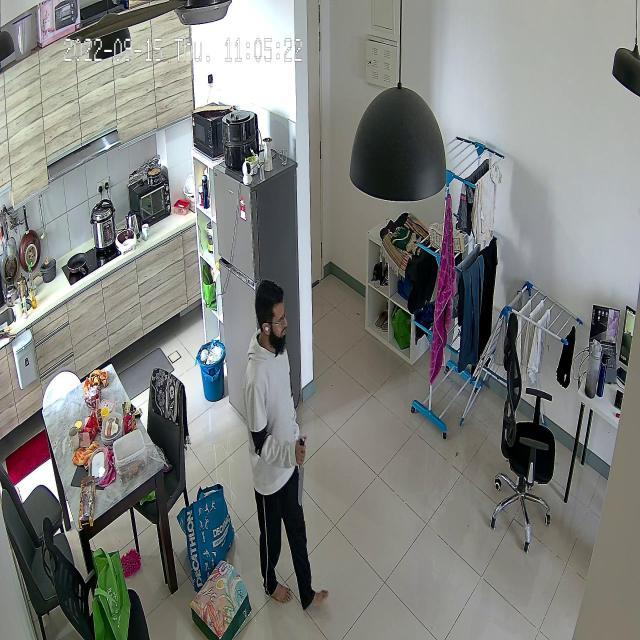Knife: (293, 427, 316, 515)
